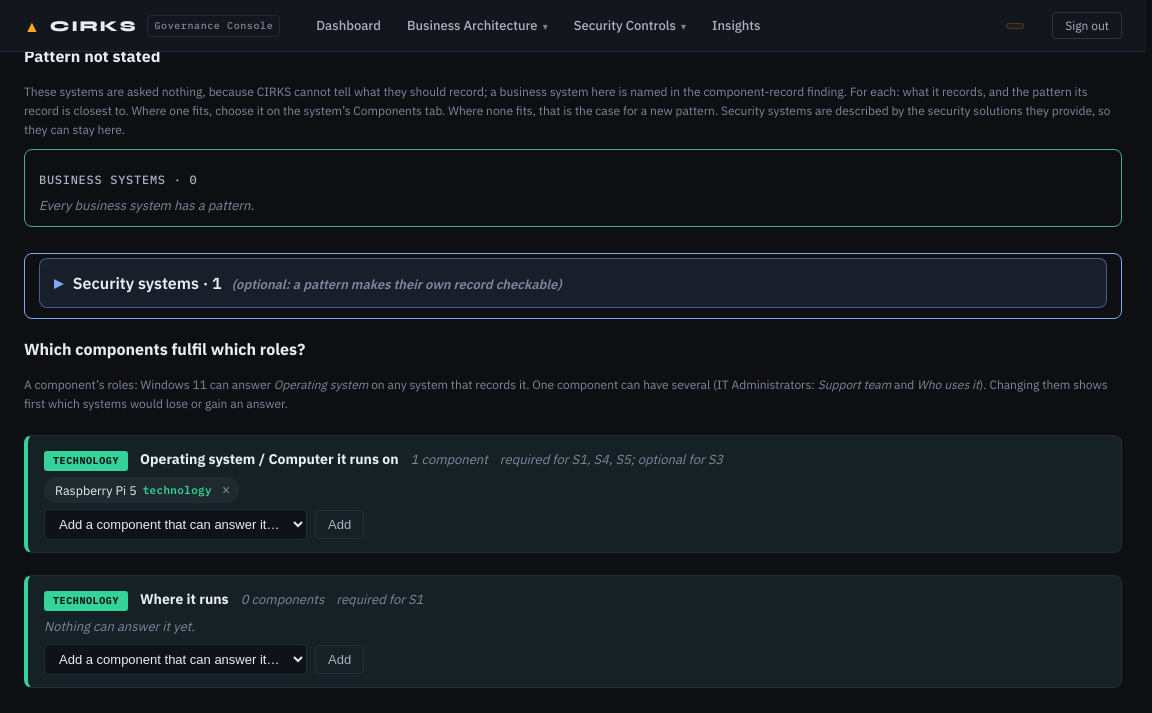
Test: removing a role opens the preview of what it does
(page scrolled)
Click the button named "Not operating system: Raspberry Pi 5": (226, 490) [218,484,234,498]
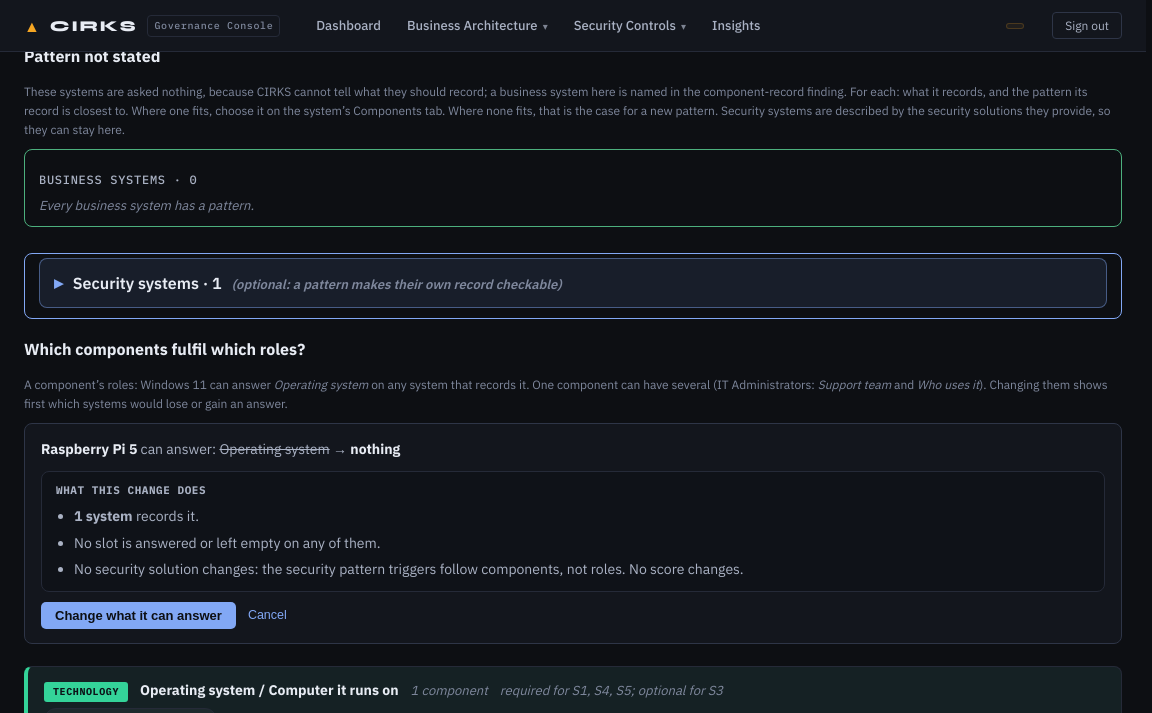
Now the list item "No slot is answered or left empty on any of them." is shown, box [74,534,381,552]
